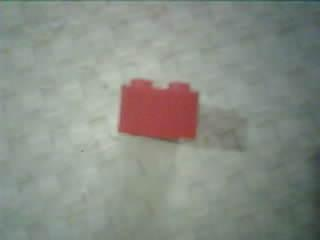lego: (116, 77, 199, 141)
